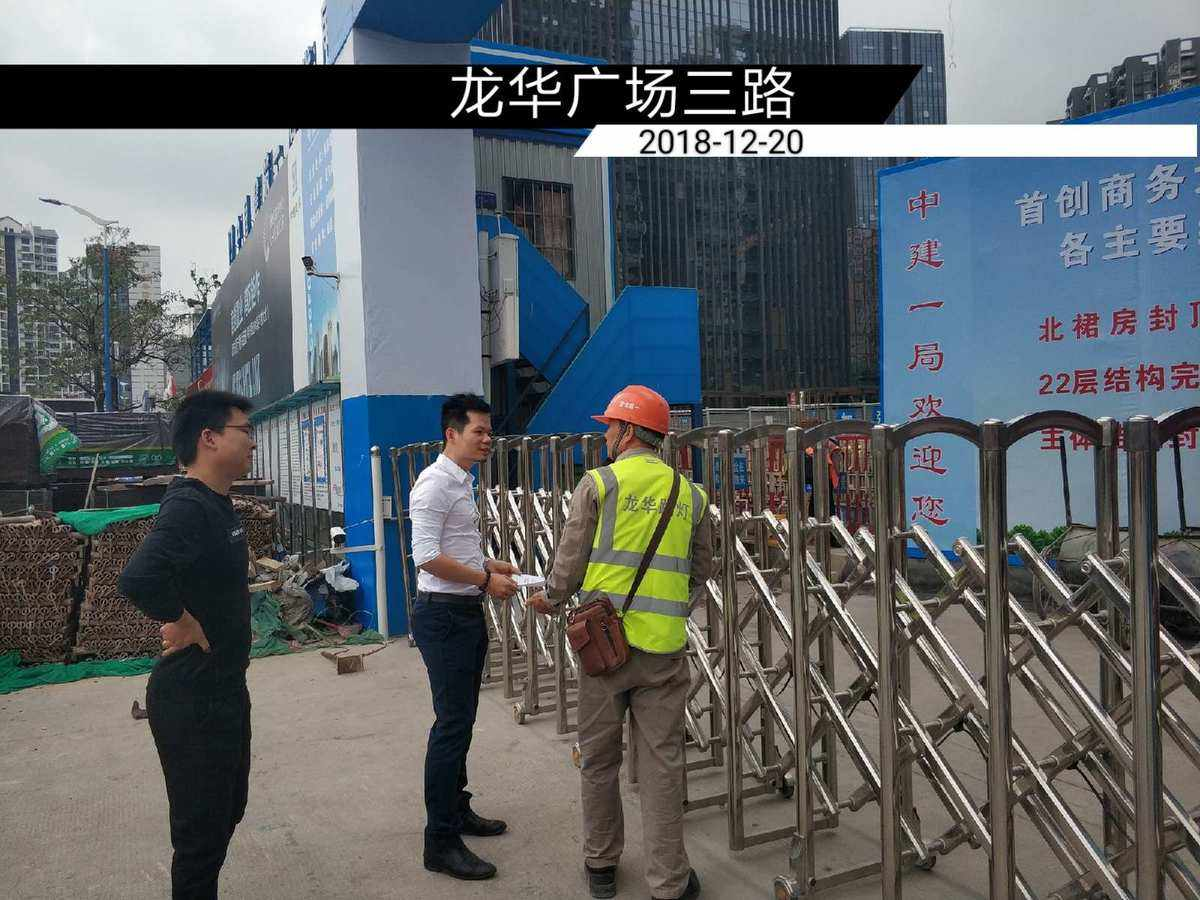head: (169, 386, 258, 482), (439, 390, 495, 463)
ordinary_clothes: (118, 475, 253, 661), (409, 452, 490, 596)
person: (519, 381, 715, 898), (116, 385, 266, 900), (404, 390, 522, 885)
reflective_vest: (576, 452, 709, 658)
safety_helmet: (588, 381, 670, 459)
